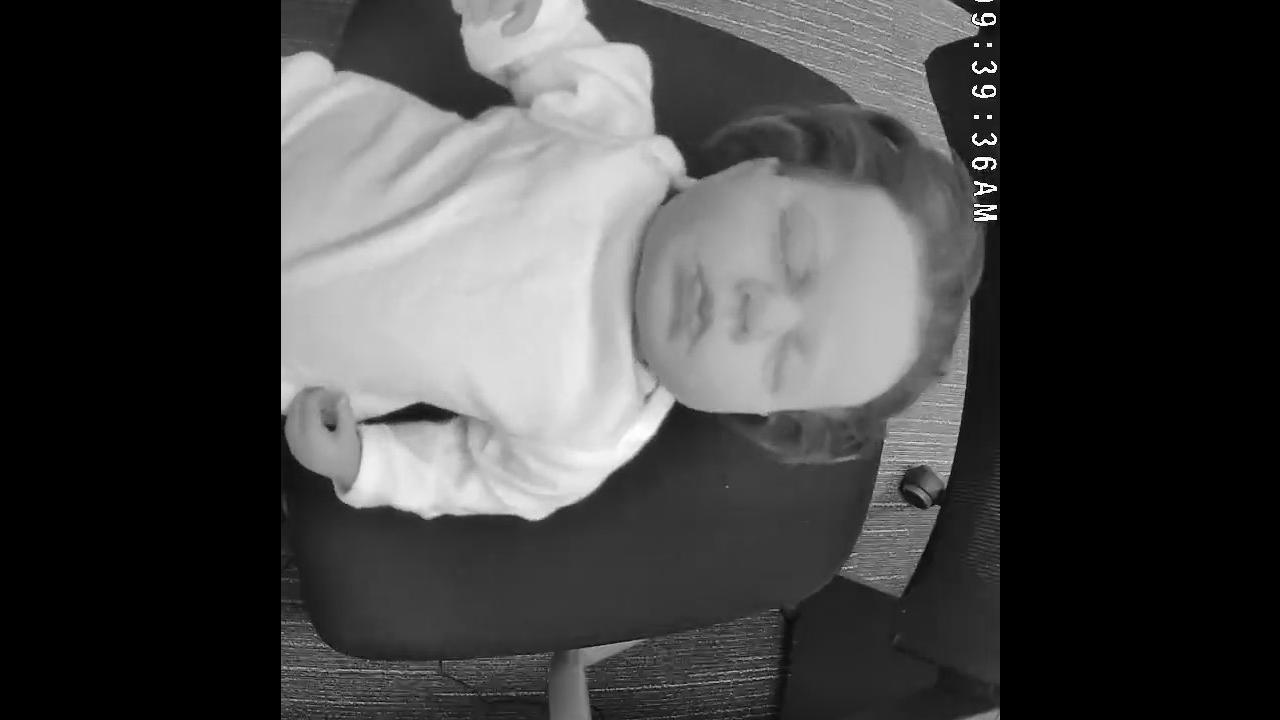hand: (286, 382, 360, 483), (431, 0, 557, 35)
